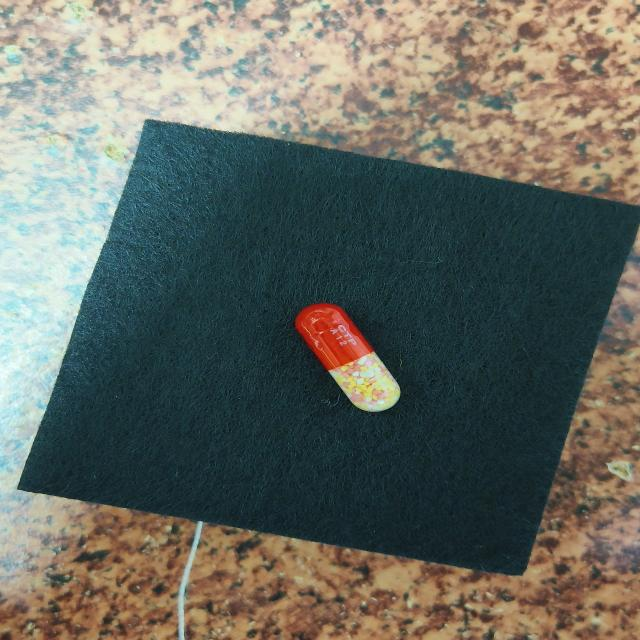Intact Capsule: (295, 303, 400, 412)
